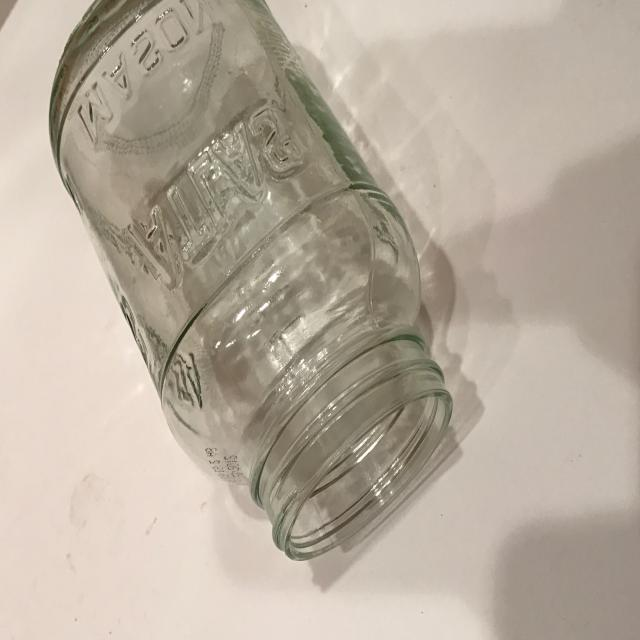glass: (48, 0, 455, 562)
